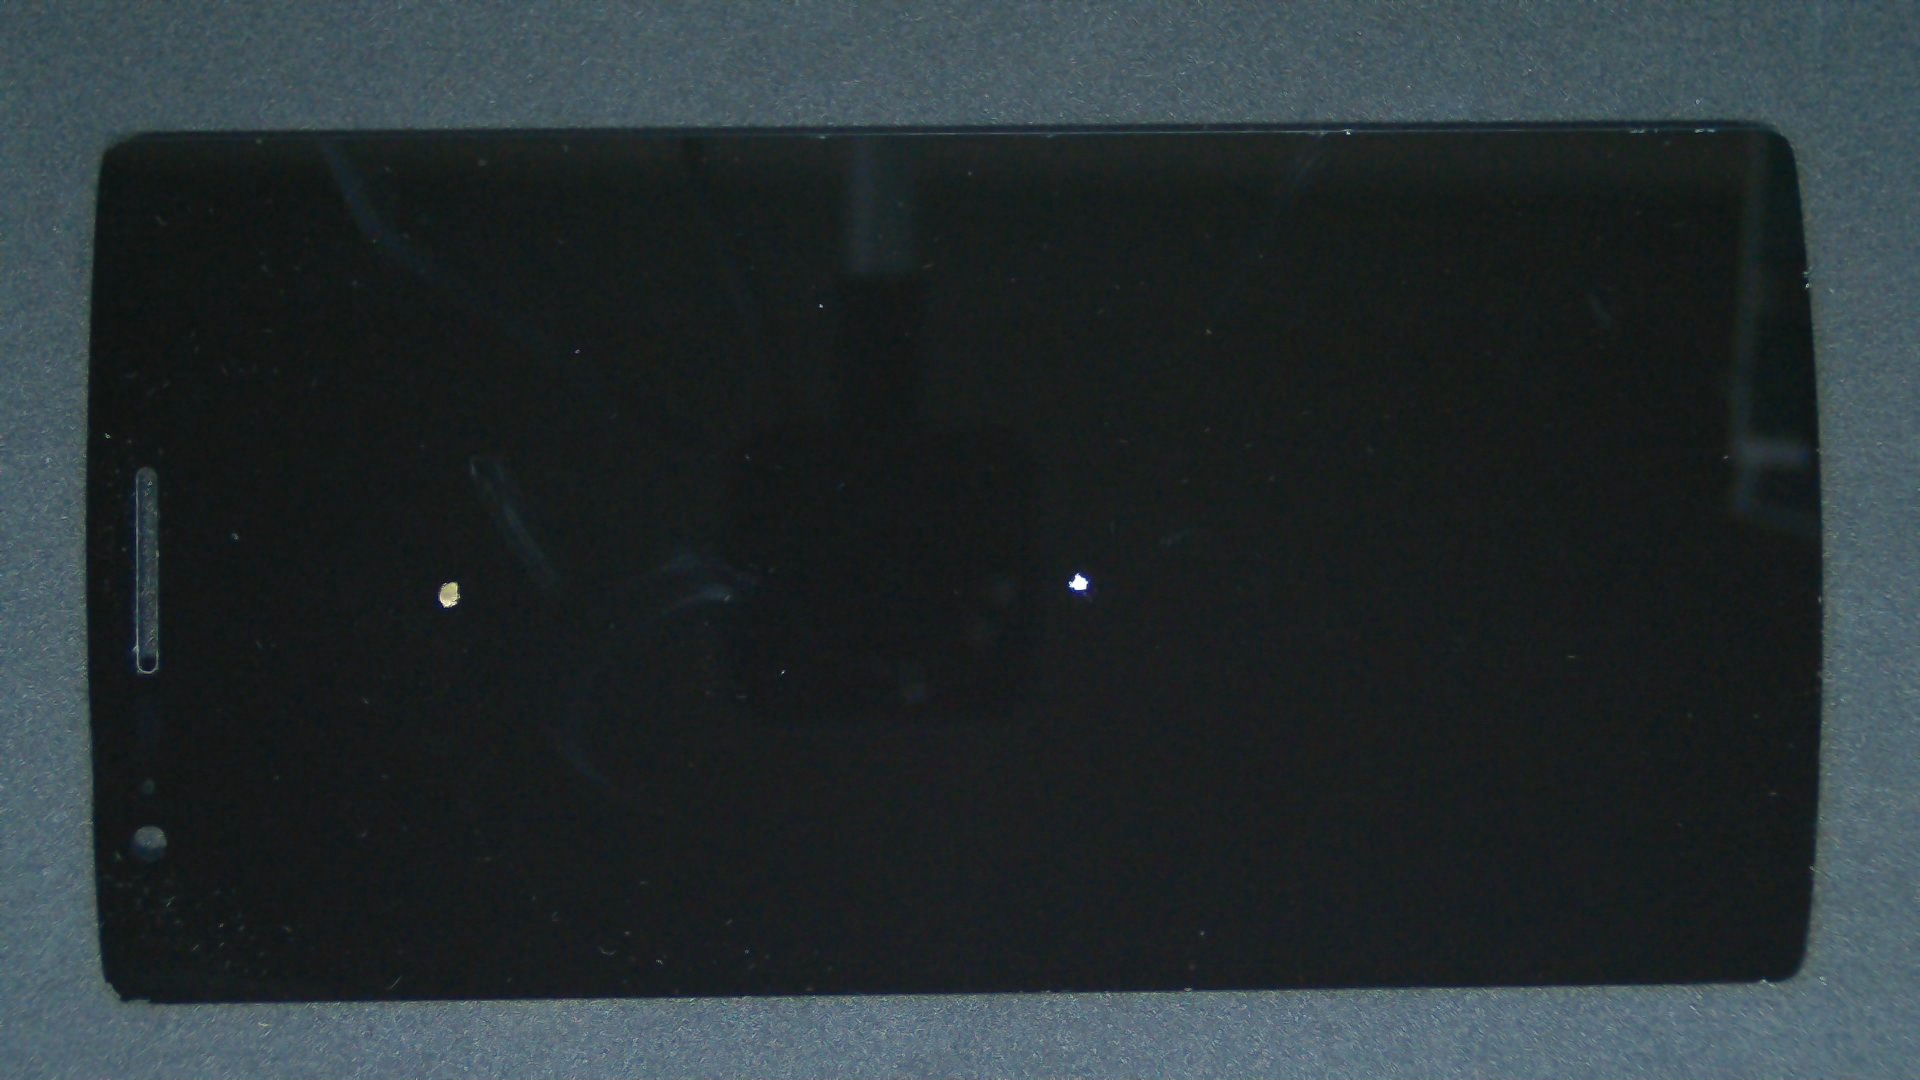oil: (541, 285, 1618, 856), (228, 290, 683, 870)
